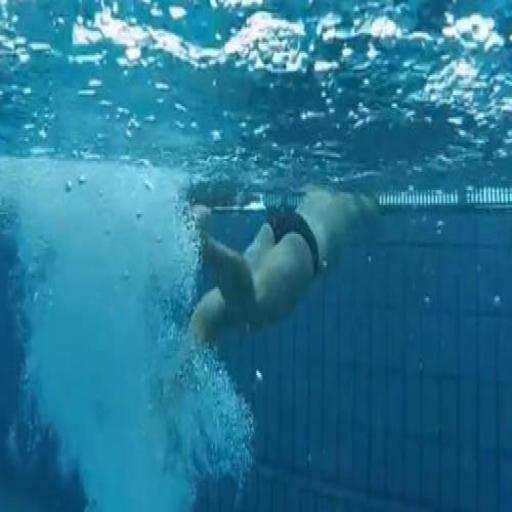swimming: (185, 179, 382, 355)
